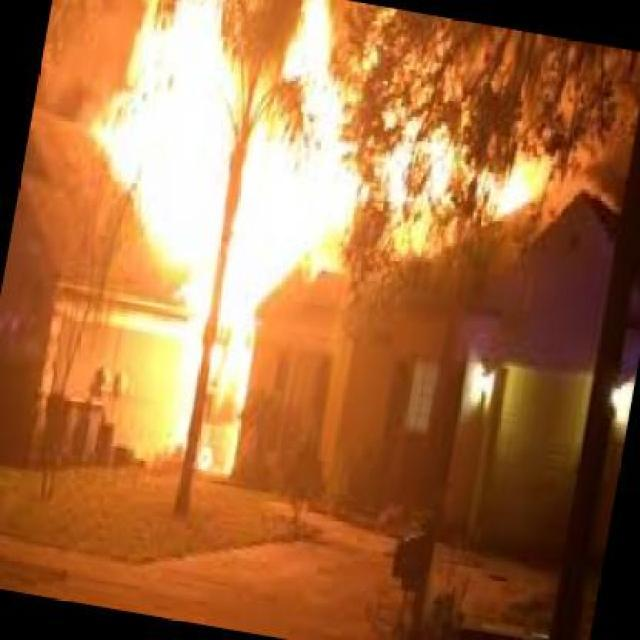Fire: (100, 10, 410, 479)
